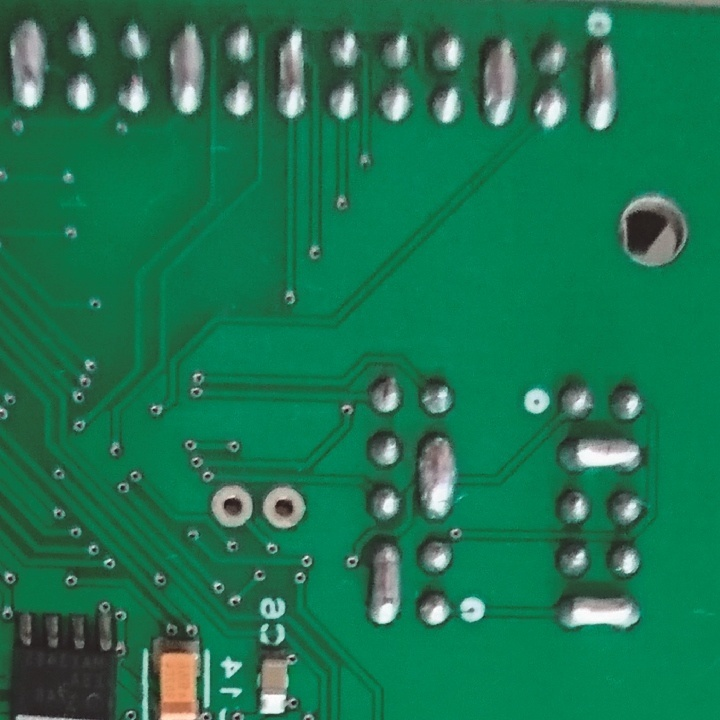F: (259, 479, 311, 535), (210, 480, 256, 532)
P: (413, 429, 461, 524), (554, 430, 647, 478), (167, 20, 210, 116), (7, 14, 46, 118), (479, 33, 521, 126), (554, 591, 645, 633), (581, 42, 621, 135), (275, 25, 312, 123), (366, 543, 402, 633)
